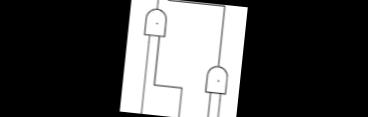and: (198, 57, 234, 96), (140, 1, 173, 40)
